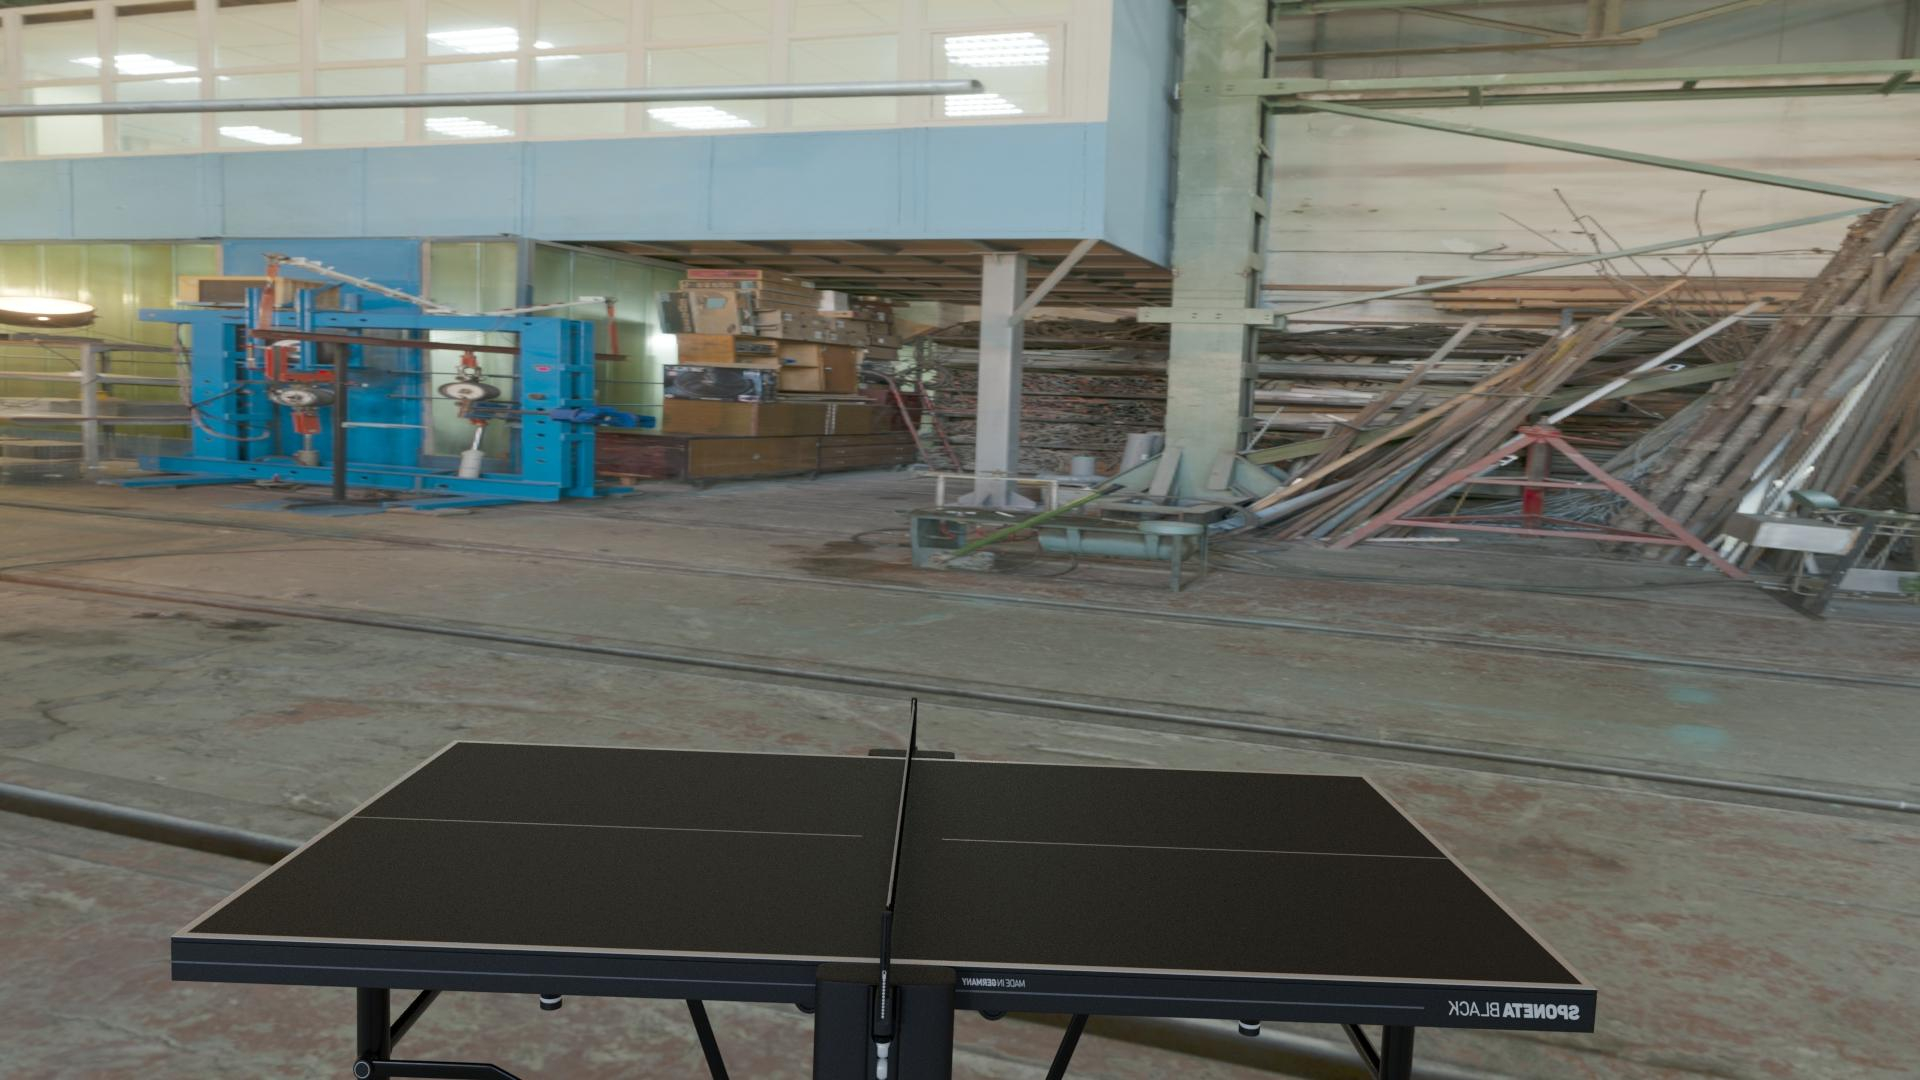table: (187, 742, 1582, 985)
